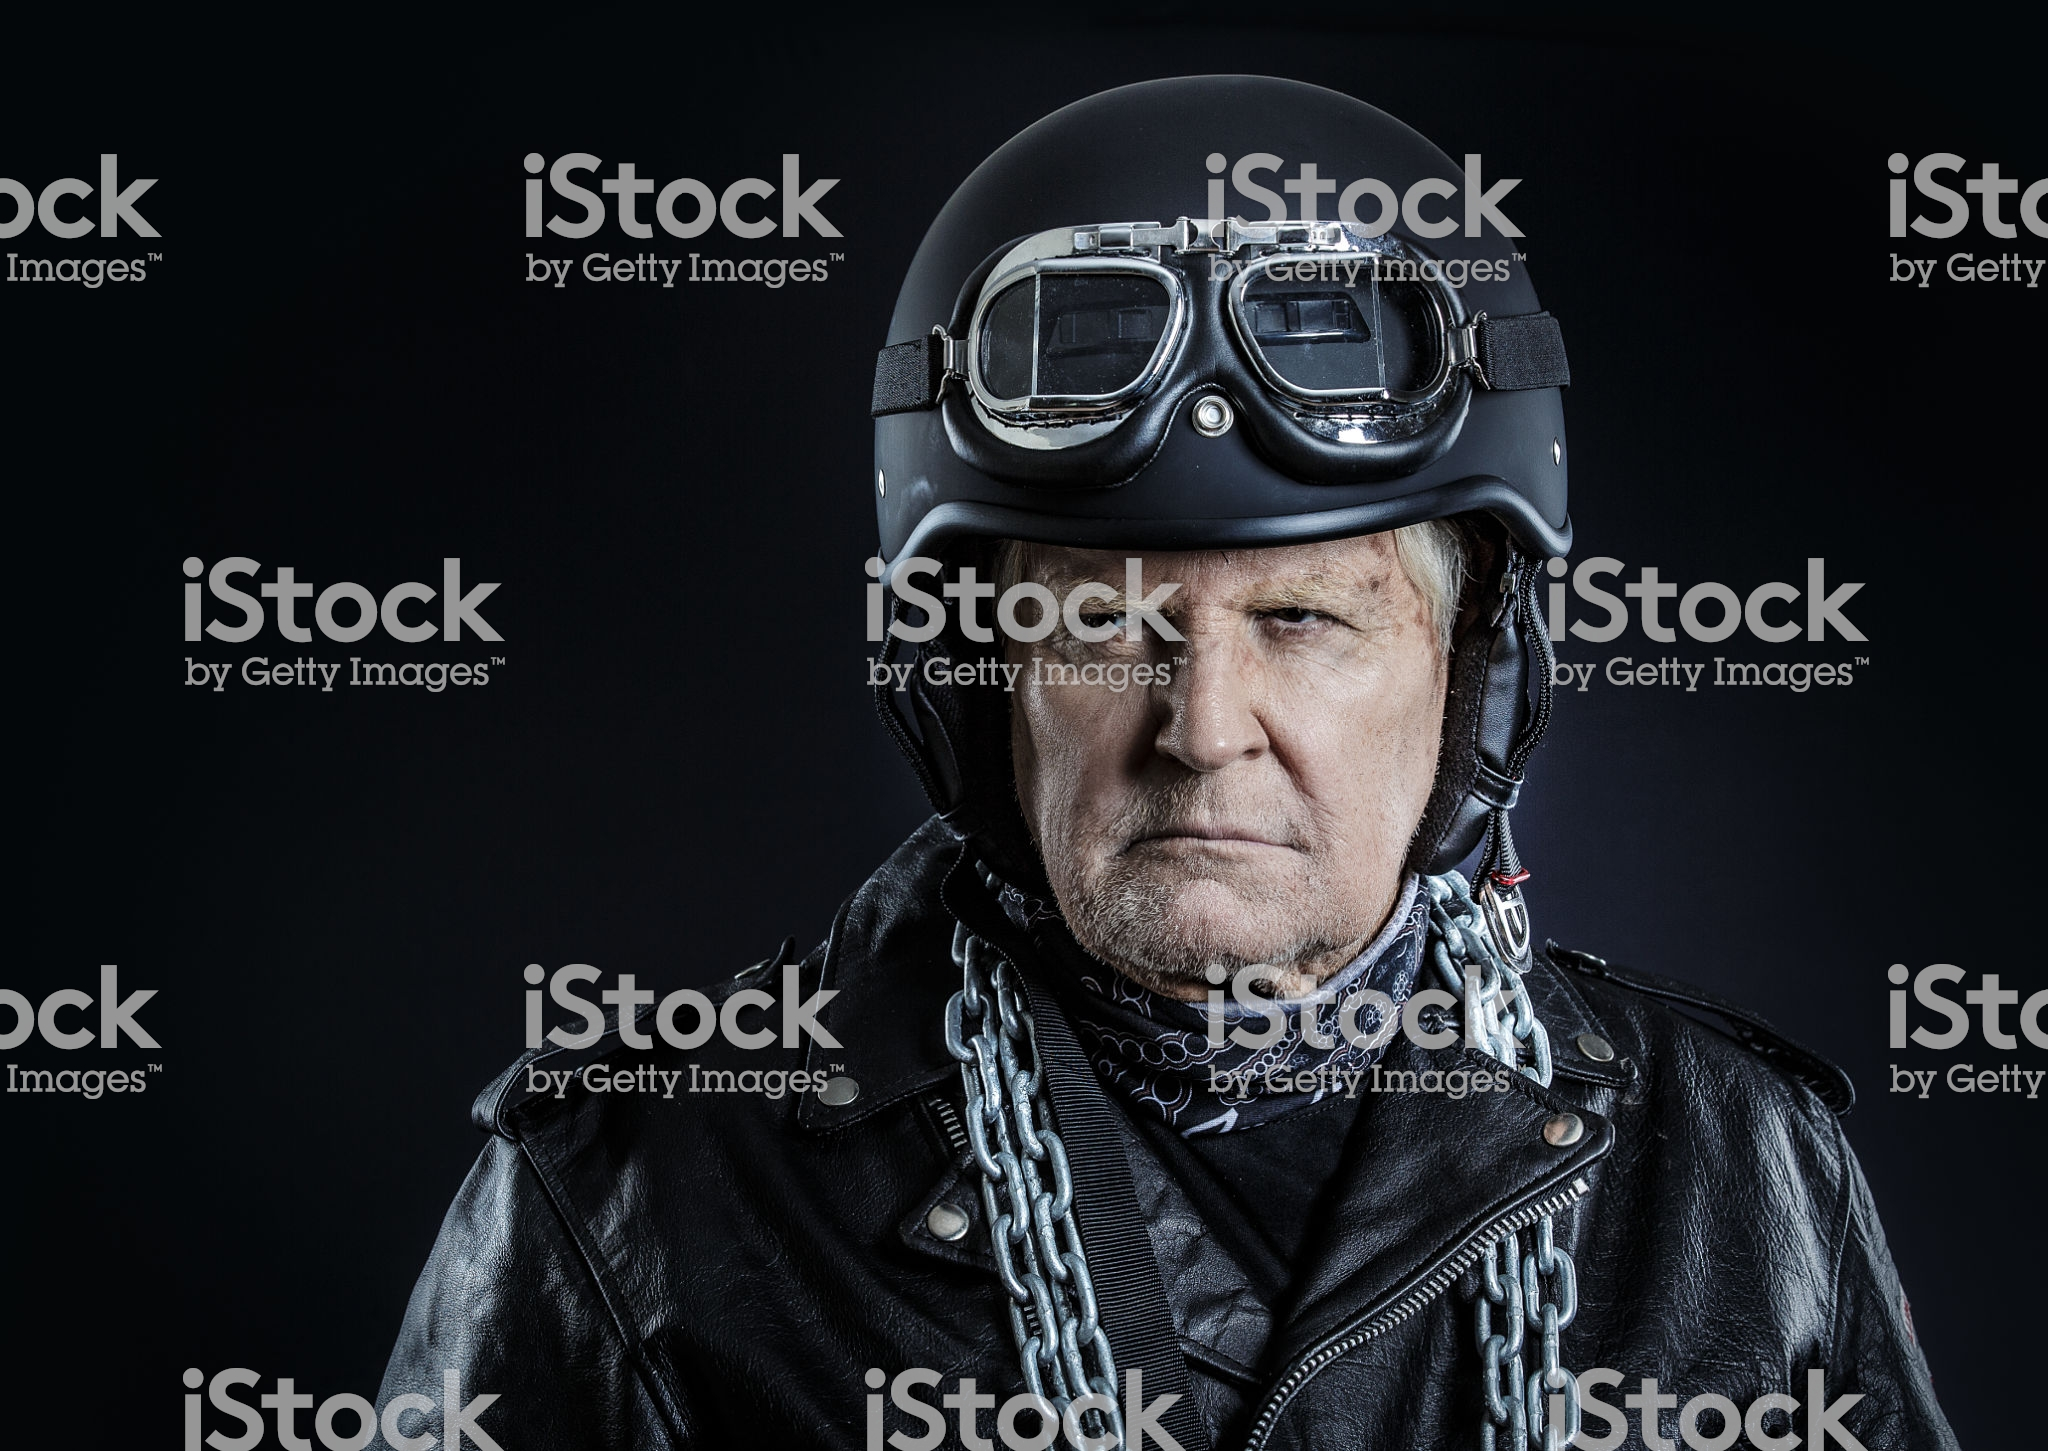helmet: (870, 46, 1621, 568)
